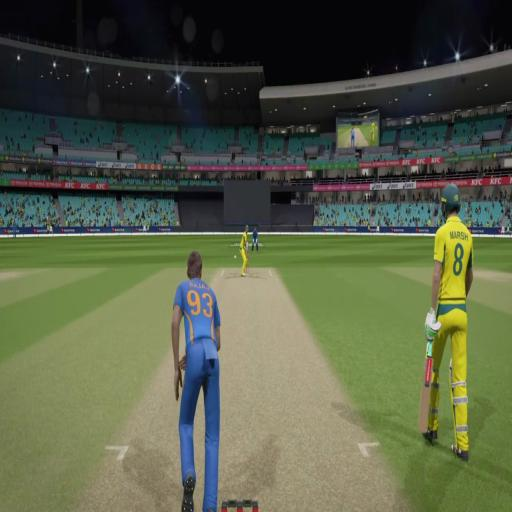ball: (234, 252, 236, 260)
